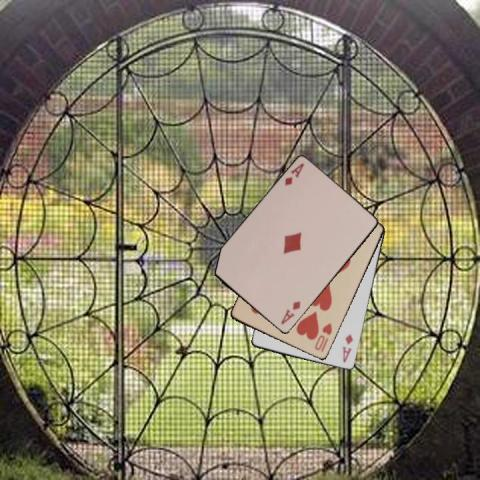10h: (312, 320, 334, 354)
Ad: (278, 298, 302, 326), (282, 160, 306, 187), (340, 331, 355, 364)
